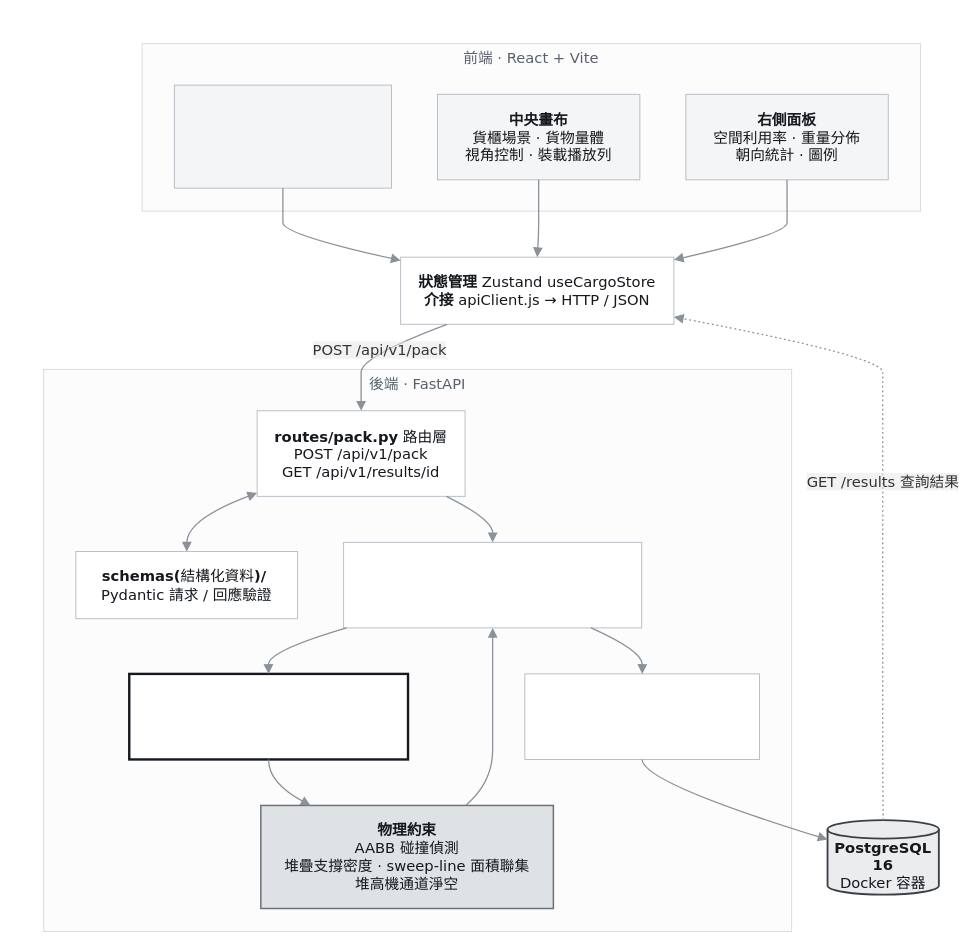
Some shapes in this 974 by 948 pixel diagram are drawn without their labels. Here are the shapes that lost their labels. From the top down, the centre of each, then its label:
[282,136]: 左側面板 櫃型選擇 · 貨物輸入表單 CSV 拖放匯入 · 貨物清單 裝載摘要
[492,584]: services/packing_service.py 服務層 數量展開 · VIP 優先排序 密度排序 · 流程編排
[268,716]: algorithm/packing.py 核心演算法 三維裝箱問題 BLB 錨點法
[641,716]: db/repository.py 持久層 SQLAlchemy ORM Tasks · PackedItems 資料表
